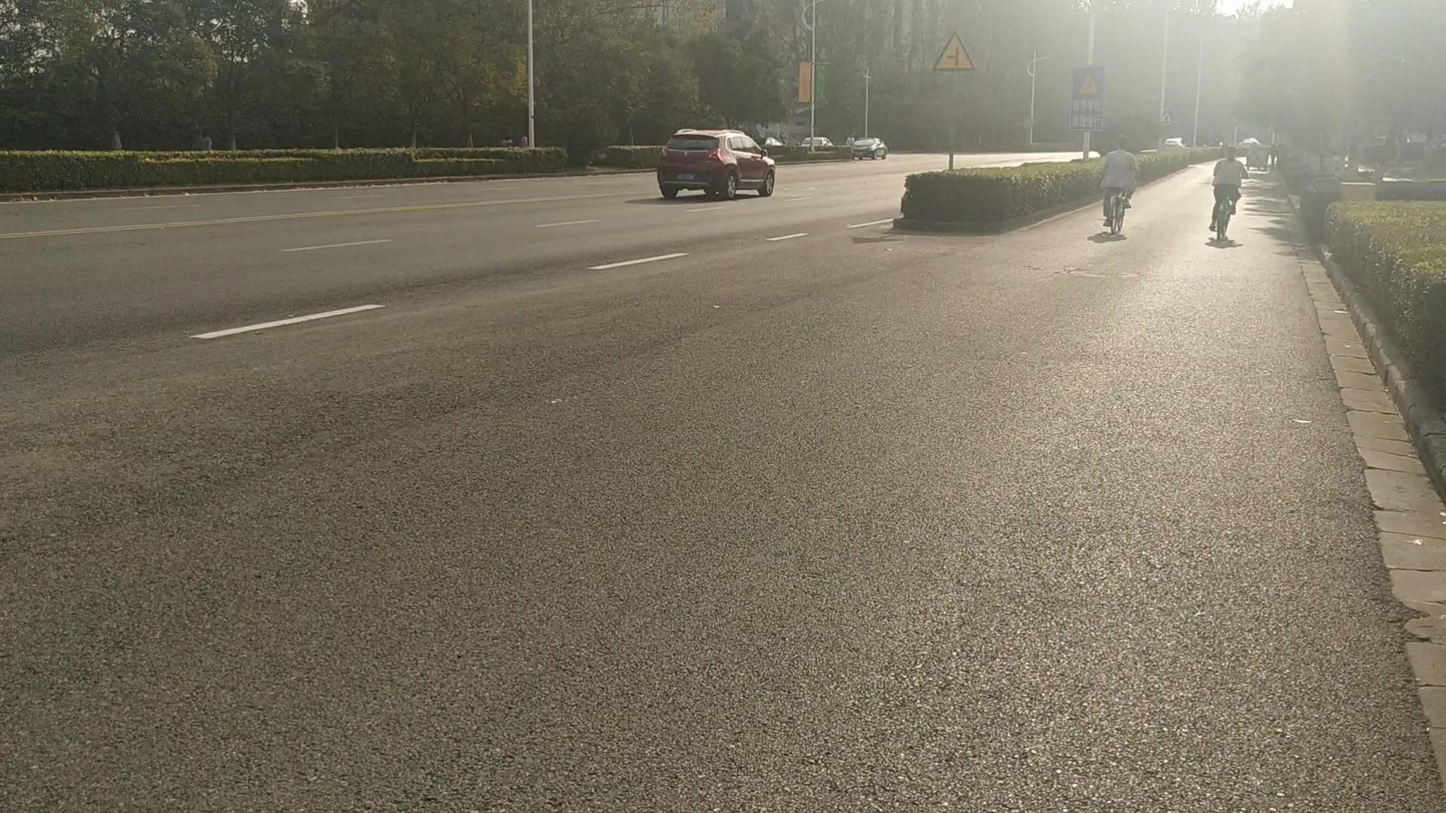car: (656, 129, 777, 201), (1296, 160, 1380, 245), (847, 136, 888, 160), (799, 136, 837, 153)
